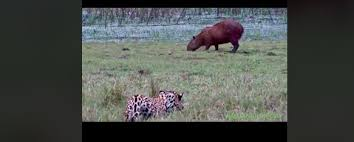capivara: (187, 20, 245, 57)
